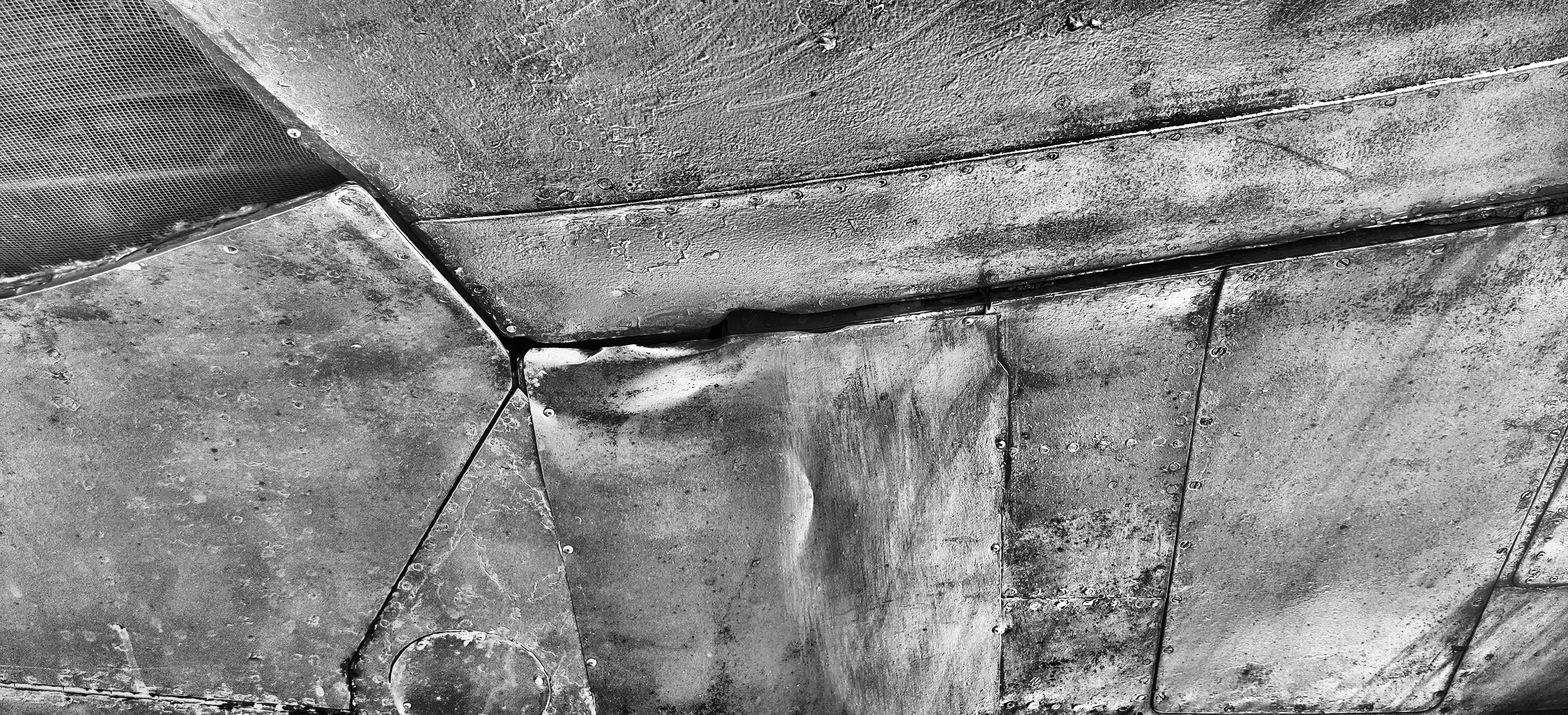dent: (525, 329, 746, 422), (783, 459, 818, 557), (706, 298, 798, 329), (328, 184, 387, 227)
missing-head: (223, 243, 240, 257)
